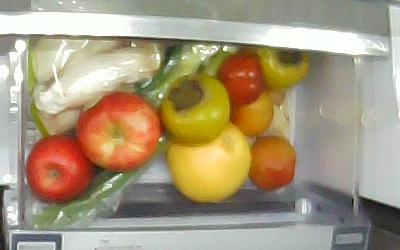apple: (78, 93, 159, 168), (27, 135, 90, 201)
grapefruit: (165, 119, 251, 200)
persimmon: (160, 76, 229, 145), (256, 48, 310, 86)
prune: (247, 138, 298, 189), (217, 55, 263, 102), (229, 92, 275, 136)
